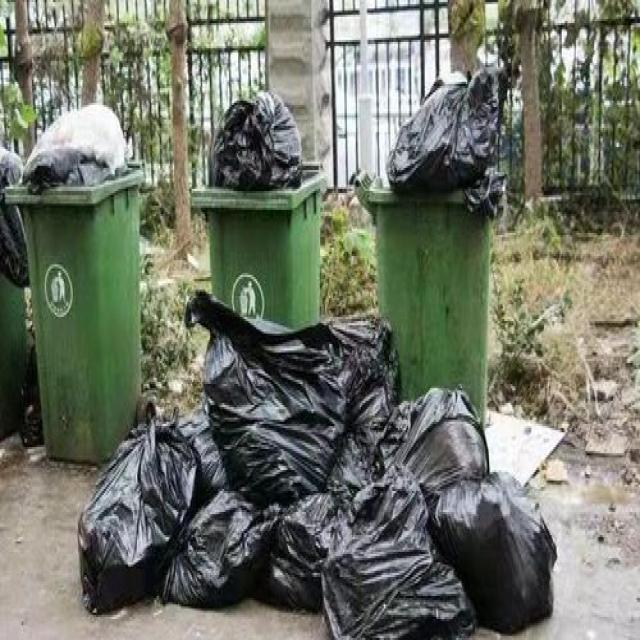garbage: (80, 294, 556, 638)
overflow: (348, 65, 502, 426), (2, 100, 144, 460), (190, 90, 325, 328)
